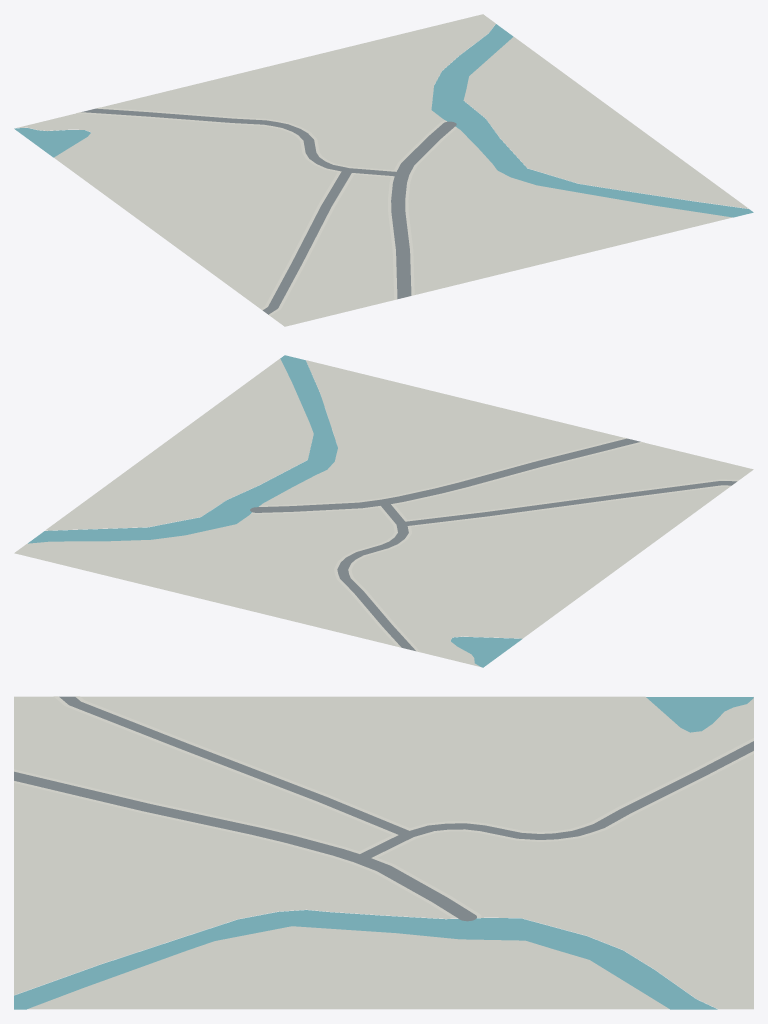
3 renders of one model, top to bottom at view 1: azimuth 30°, elevation 25°; view 2: azimuth 150°, elevation 25°; view 3: azimuth 270°, elevation 25°, orthographic. The views are drawn at different scales.
Visible parts, largest first — view 1: city; view 2: city; view 3: city.
Boxes of the visible parts, x1,y1,x2,y2 form: city: (14, 14, 753, 326); city: (14, 355, 753, 667); city: (14, 696, 753, 1009).
Size of the model in its own units: 500 by 0.4 by 500.
